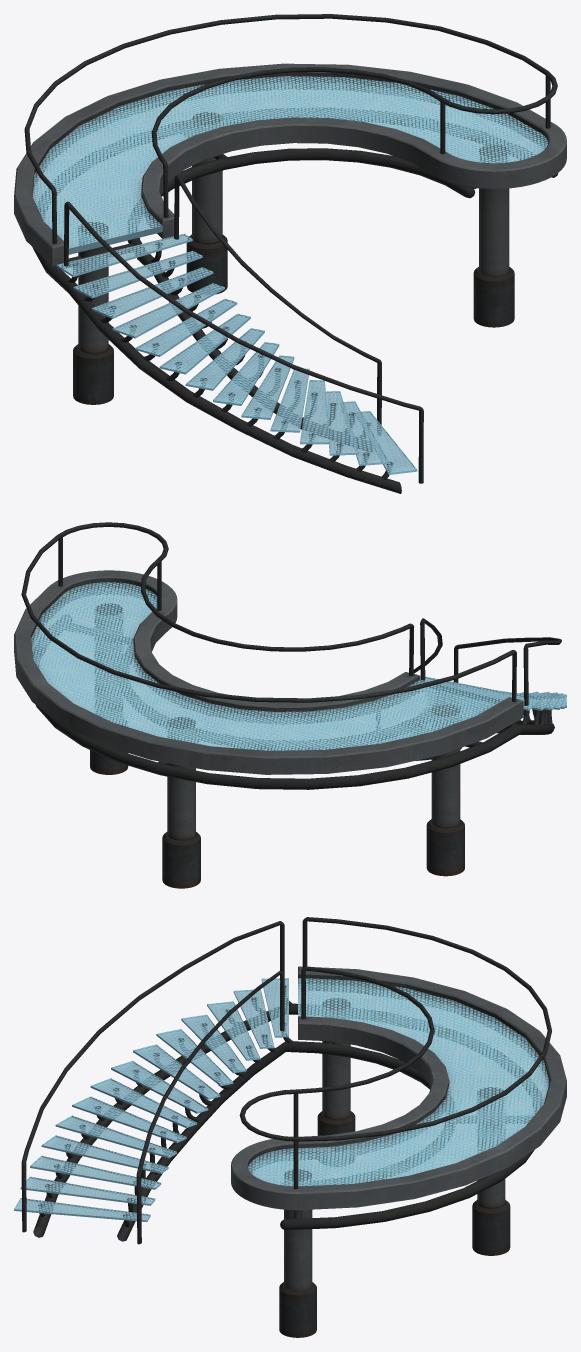
The picture shows the model from 3 angles, top to bottom: view 1: azimuth 30°, elevation 25°; view 2: azimuth 150°, elevation 25°; view 3: azimuth 270°, elevation 25°; orthographic projection. The views are drawn at different scales.
Parts seen in each view (by area): view 1: Glados_stairs_reference.smd_0; view 2: Glados_stairs_reference.smd_0; view 3: Glados_stairs_reference.smd_0.
Part boxes in pixels (x1,y1,x2,y2): Glados_stairs_reference.smd_0: (14, 14, 566, 493); Glados_stairs_reference.smd_0: (14, 522, 566, 888); Glados_stairs_reference.smd_0: (14, 917, 566, 1337).
Bounding box in the file's own units: 7.33 × 3.47 × 7.53.
2 materials, 2 textured.
